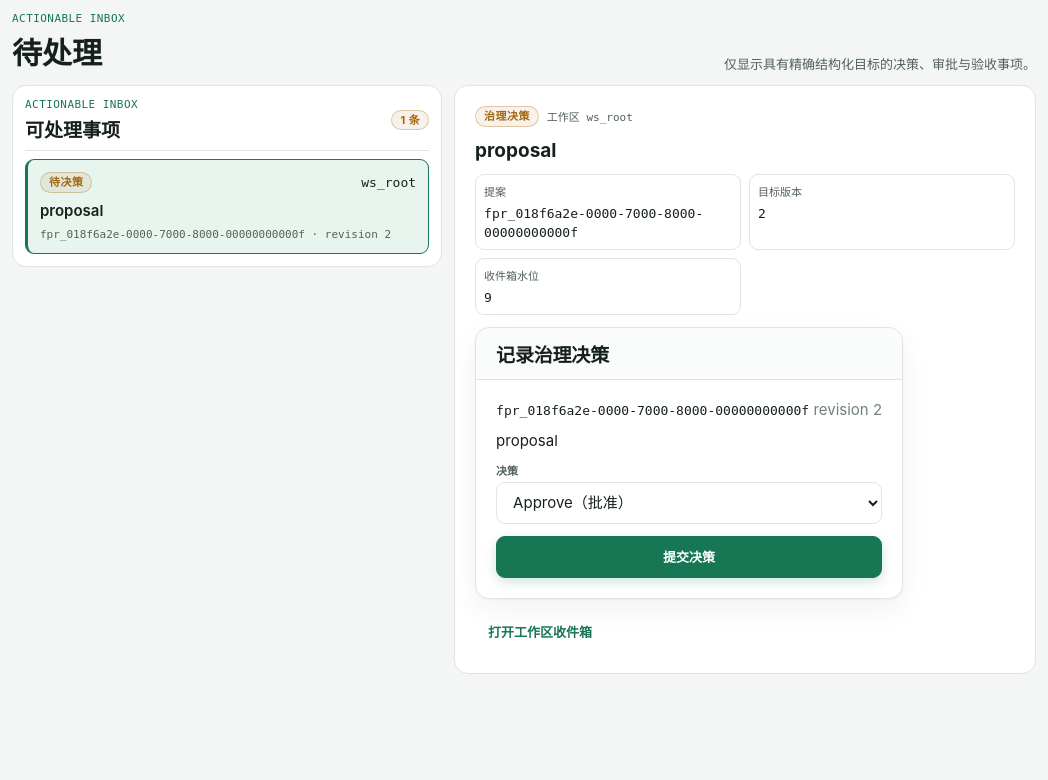
Test case: W-08 Governance Queue（待处理） › decision submit posts the frozen RecordDecision payload via /commands
Expected: the heading "记录治理决策" is shown, x1=496 y1=344 x2=609 y2=367
Click the button "提交决策": point(689, 557) x1=496 y1=536 x2=882 y2=578
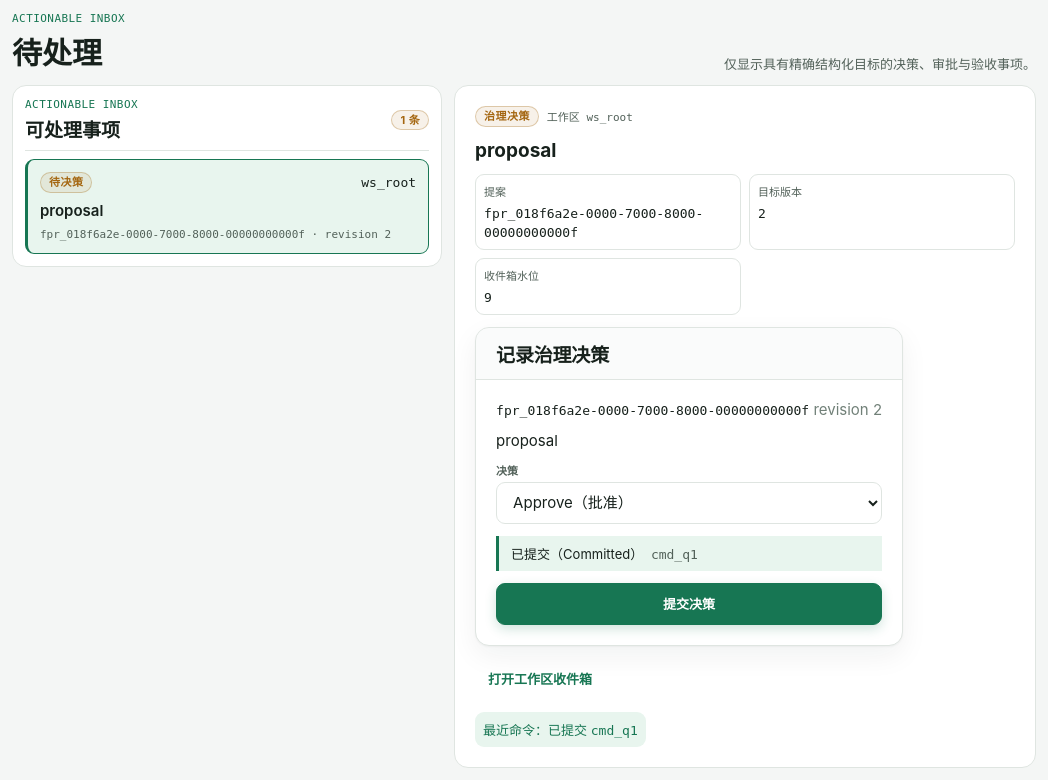
Expected: the text "fpr_018f6a2e-0000-7000-8000-00000000000f" below "提案" is shown, x1=484 y1=206 x2=703 y2=240
Expected: the text "最近命令：已提交 cmd_q1" is shown, x1=475 y1=712 x2=646 y2=747
